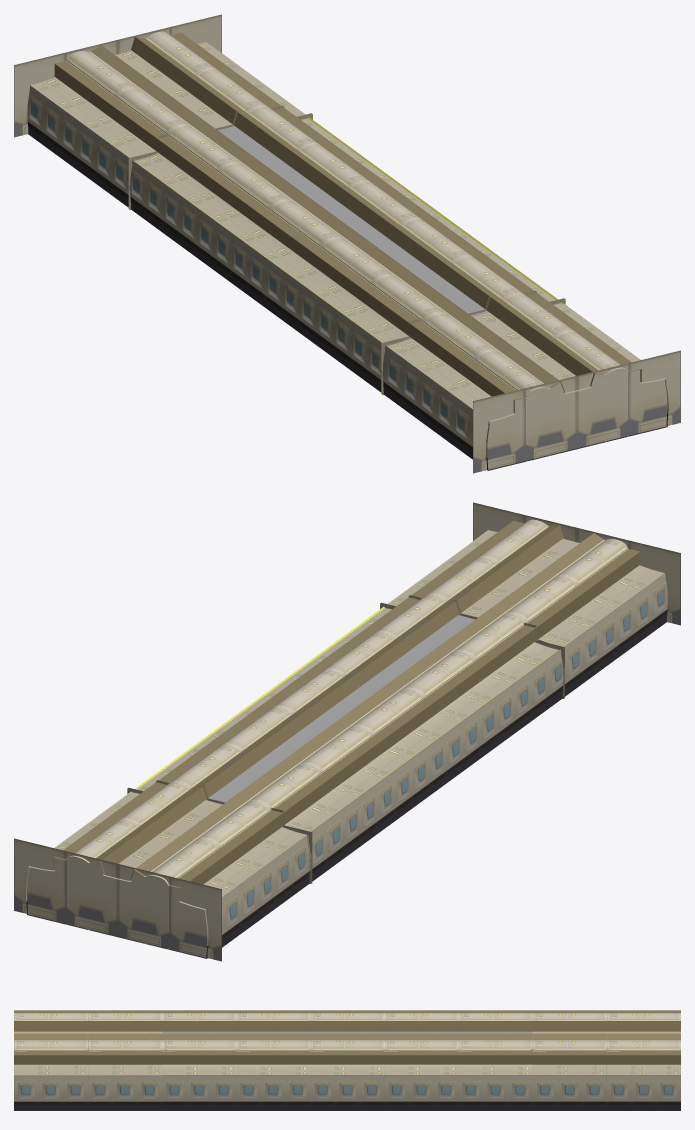
The model's file is Airplane.fbx.
The picture shows the model from 3 angles, top to bottom: view 1: azimuth 30°, elevation 25°; view 2: azimuth 150°, elevation 25°; view 3: azimuth 270°, elevation 25°; orthographic projection. The views are drawn at different scales.
Visible parts, largest first — view 1: Celling, Cellingouter, LastWall1, CabineWall, CellingSide, CabineWall3, CabineWall5, LastWall; view 2: Celling, Cellingouter, LastWall, CabineWall, CellingSide, CabineWall5, CabineWall3, LastWall1; view 3: Celling, Cellingouter, CabineWall1, CabineWall4, CabineWall2, CellingSide.
Boxes of the visible parts, left/top/right/bottom form: Celling: left=156, top=106, right=538, bottom=337; Cellingouter: left=30, top=31, right=666, bottom=421; LastWall1: left=473, top=350, right=680, bottom=473; CabineWall: left=128, top=160, right=387, bottom=395; CellingSide: left=134, top=117, right=563, bottom=346; CabineWall3: left=27, top=85, right=128, bottom=206; CabineWall5: left=384, top=347, right=489, bottom=470; LastWall: left=14, top=14, right=221, bottom=137; Celling: left=156, top=594, right=538, bottom=825; Cellingouter: left=29, top=519, right=664, bottom=909; LastWall: left=14, top=838, right=221, bottom=961; CabineWall: left=307, top=649, right=566, bottom=883; CellingSide: left=135, top=606, right=559, bottom=831; CabineWall5: left=564, top=573, right=667, bottom=695; CabineWall3: left=204, top=835, right=309, bottom=958; LastWall1: left=473, top=502, right=680, bottom=625; Celling: left=162, top=1010, right=532, bottom=1064; Cellingouter: left=14, top=1010, right=680, bottom=1075; CabineWall1: left=162, top=1075, right=532, bottom=1110; CabineWall4: left=14, top=1075, right=162, bottom=1110; CabineWall2: left=532, top=1075, right=680, bottom=1110; CellingSide: left=162, top=1064, right=532, bottom=1074.
Bounding box in the file's own units: 781 × 261 × 2999.
